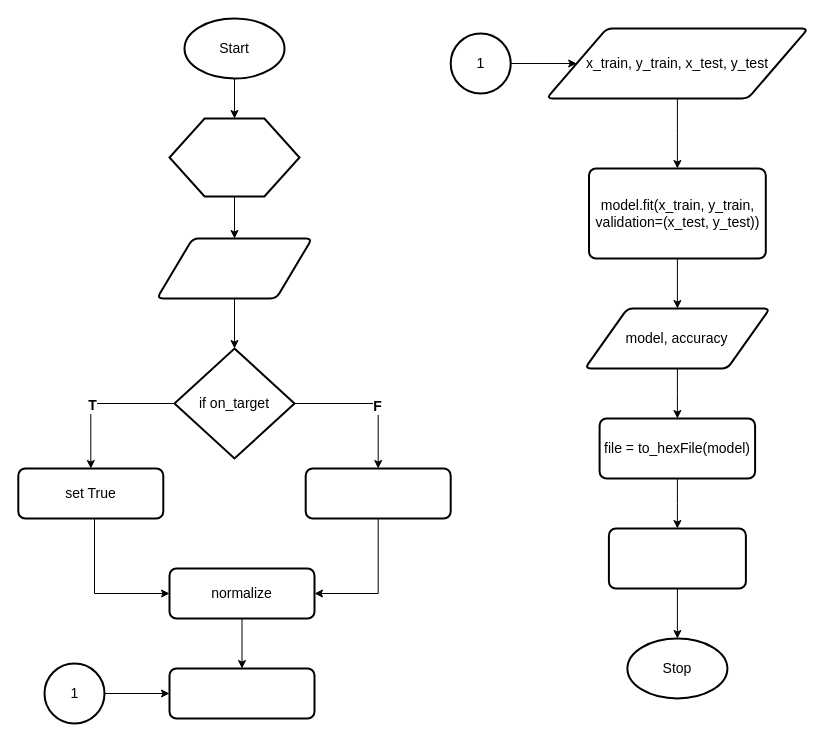
Some shapes in this 826 by 741 pixel diagram are drawn without their labels. Here are the shapes that lost their labels. From the top down, the centre of each, then its label:
At point 234,157: "TF library; pandas".
At point 234,268: "Raw data".
At point 377,493: "set False".
At point 676,558: "send(file)".
At point 241,693: "train_test_split".
